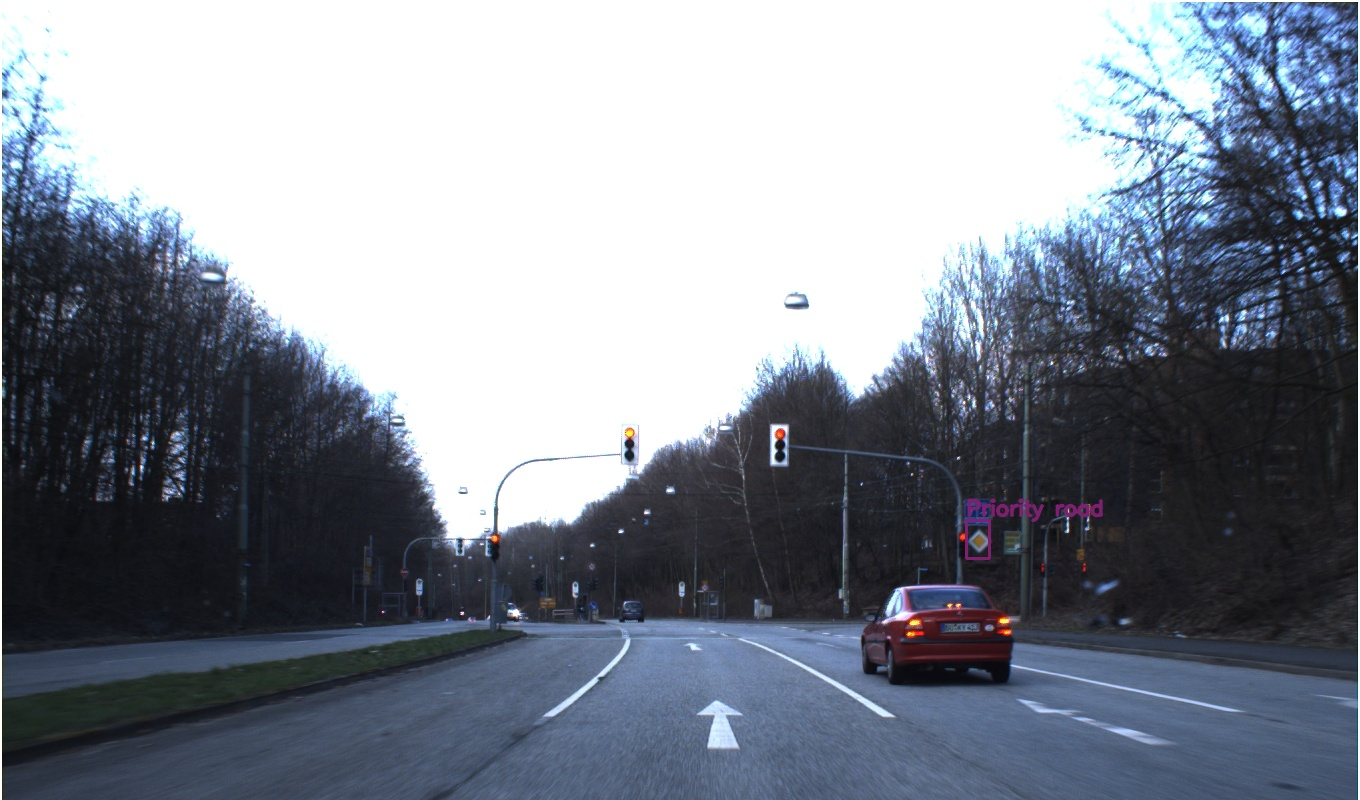General caution: (314, 306, 393, 377)
